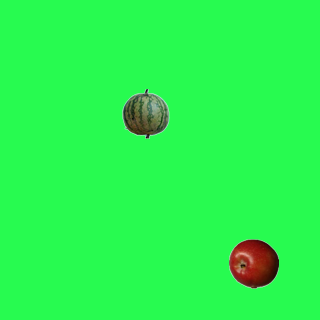Apple Braeburn: (228, 238, 278, 288)
Watermelon: (120, 88, 170, 138)
